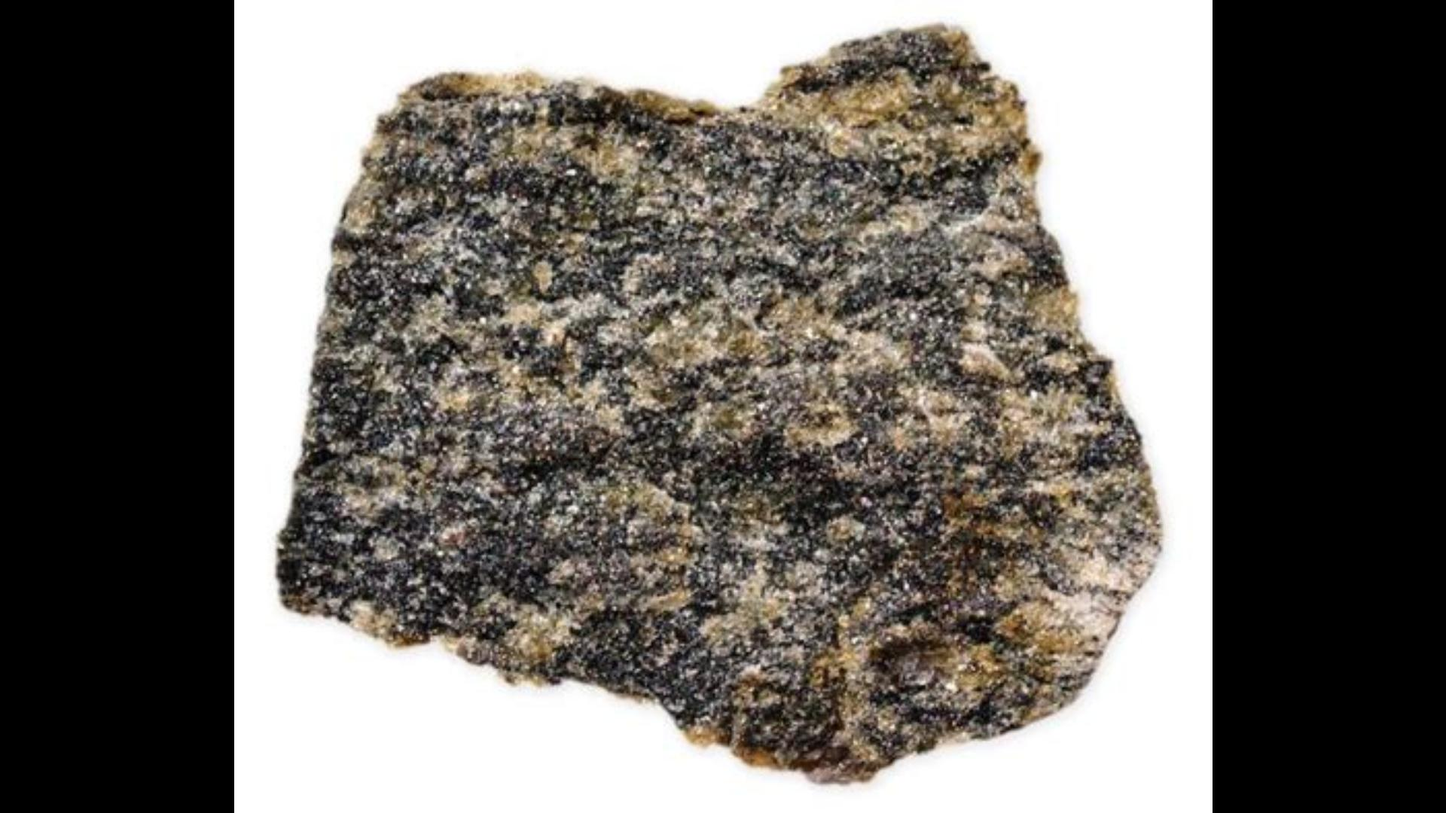rock: (283, 29, 1156, 776)
